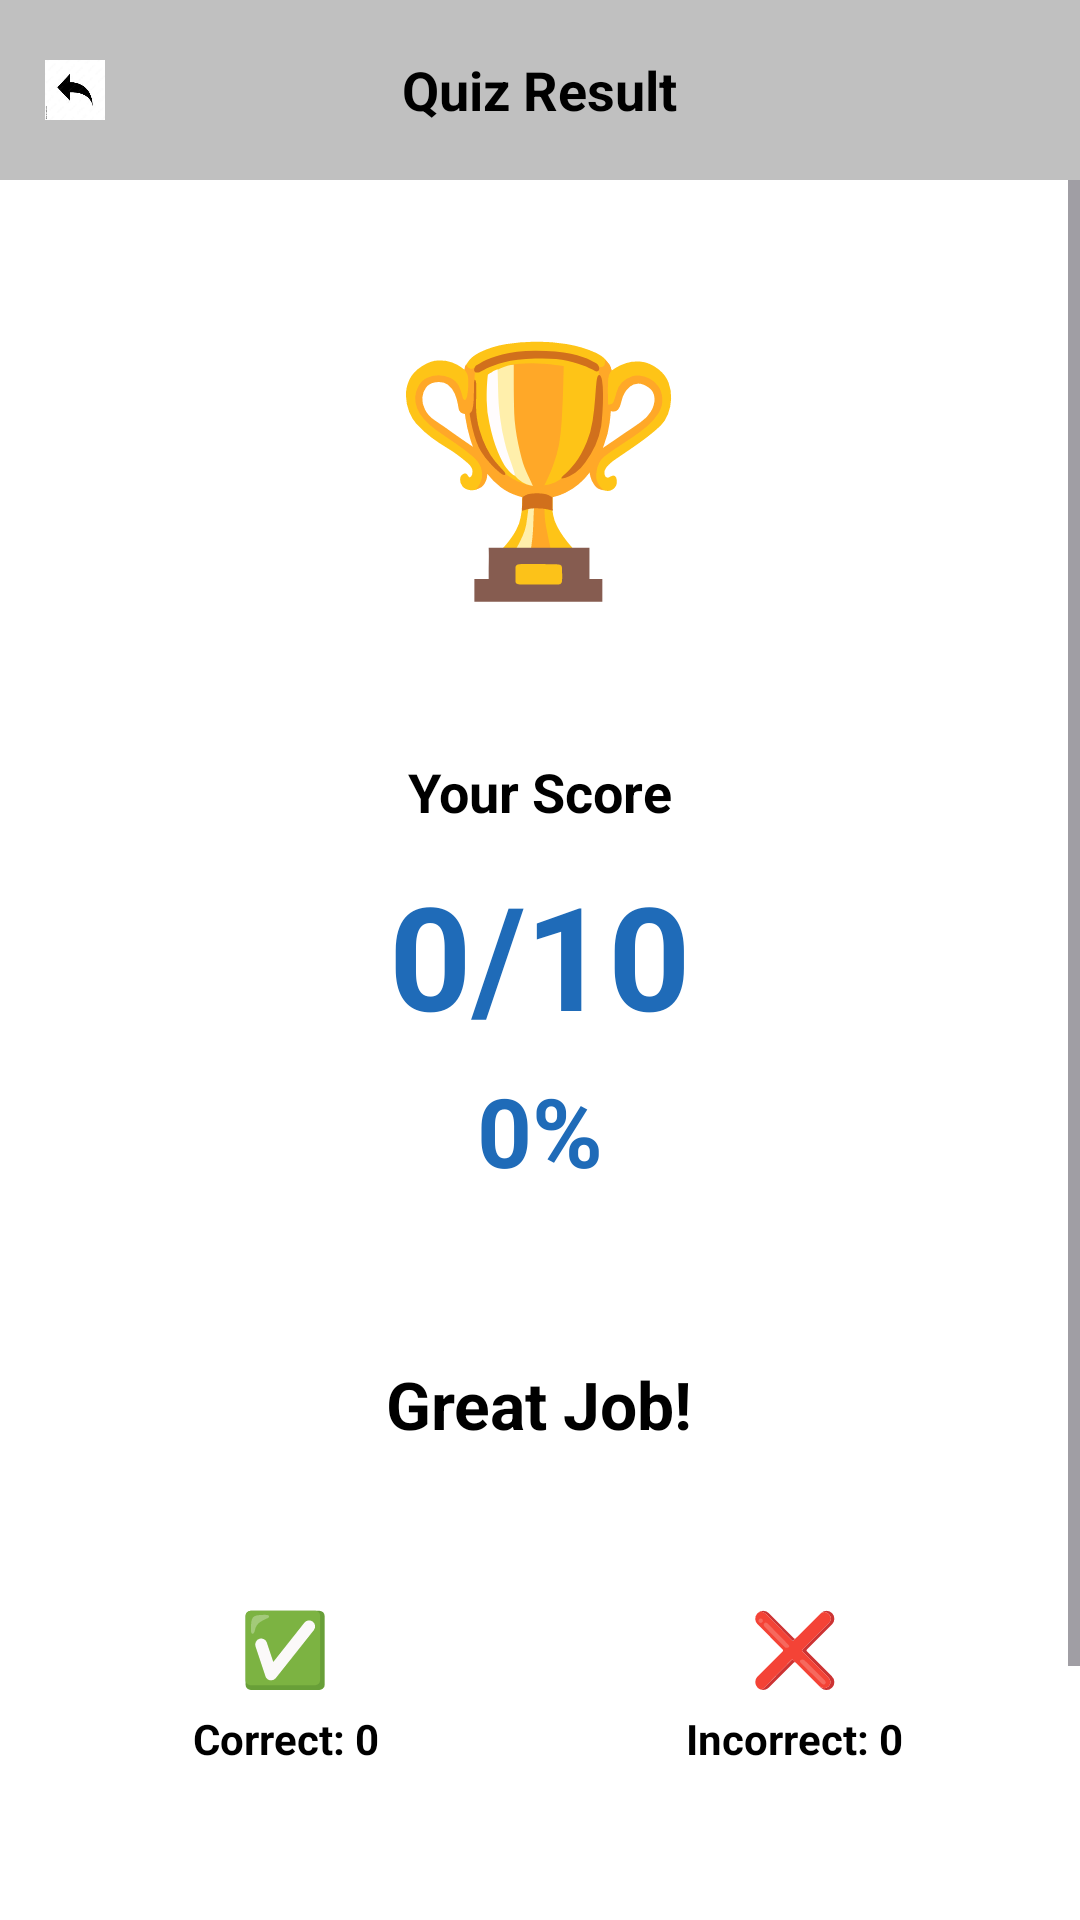

Icon bounding boxes for this 1080x1920 phone screenshot, format [x1=x1, y1=y1, x2=x2, y2=y2]:
Back button: [x1=45, y1=60, x2=105, y2=120]
